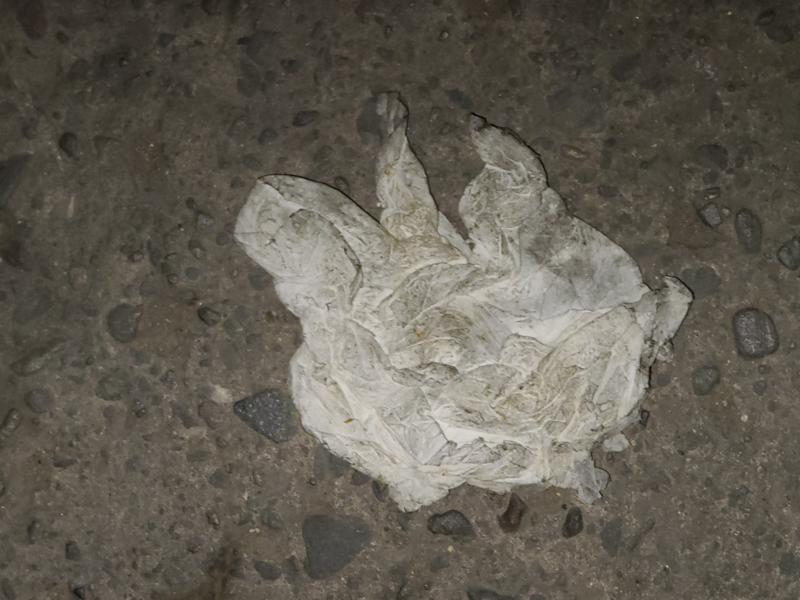papel: (230, 88, 690, 515)
